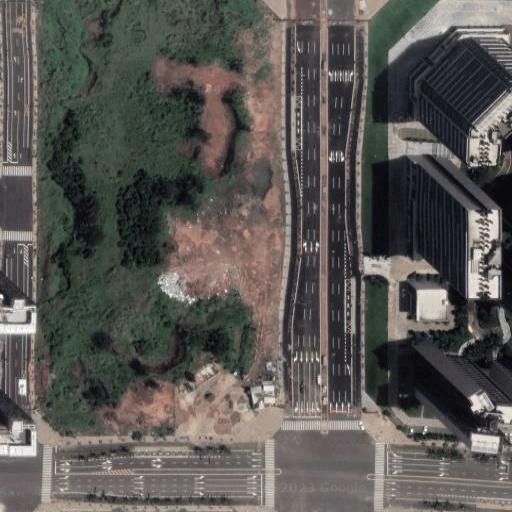building: (410, 31, 493, 114), (409, 336, 464, 403), (413, 163, 447, 253), (0, 408, 28, 445), (408, 282, 437, 315), (251, 387, 264, 410), (263, 397, 276, 403), (264, 385, 273, 391)
